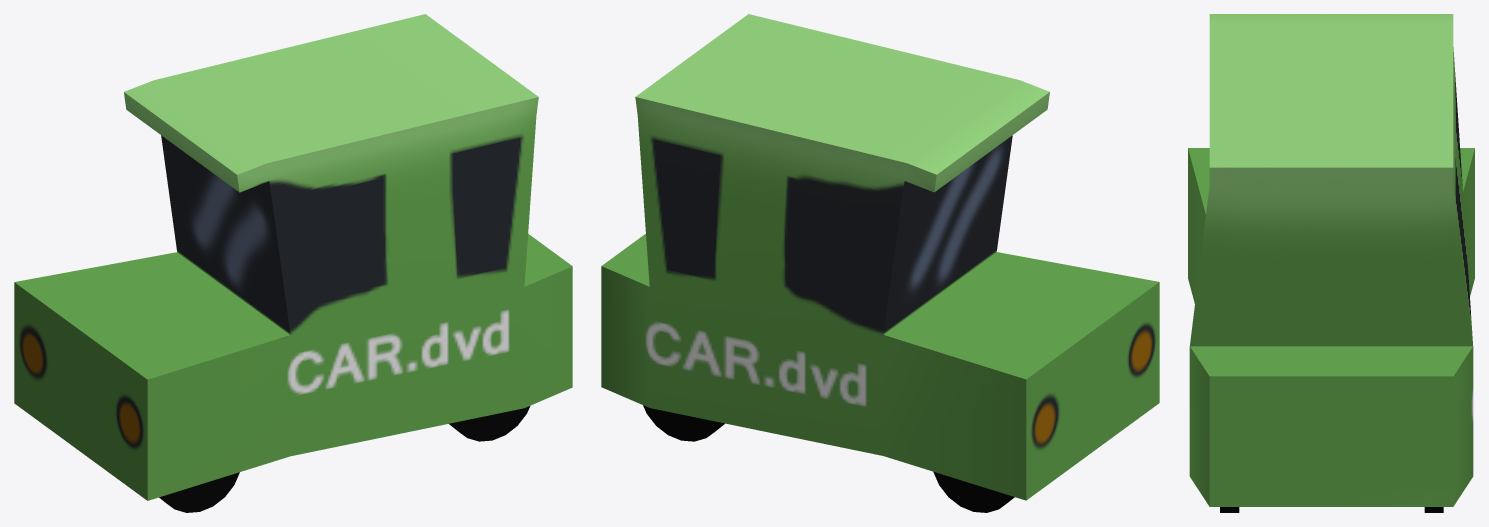
Rendered from car.fbx.
The picture shows the model from 3 angles, left to right: view 1: azimuth 30°, elevation 25°; view 2: azimuth 150°, elevation 25°; view 3: azimuth 270°, elevation 25°; orthographic projection. The views are drawn at different scales.
Parts seen in each view (by area): view 1: carRKD:pCube17, pCylinder9, pCylinder8; view 2: carRKD:pCube17, pCylinder9, pCylinder8; view 3: carRKD:pCube17.
Boxes of the visible parts, x1=… form: carRKD:pCube17: x1=14, y1=14, x2=572, y2=500; pCylinder9: x1=159, y1=472, x2=239, y2=512; pCylinder8: x1=449, y1=406, x2=529, y2=441; carRKD:pCube17: x1=601, y1=14, x2=1159, y2=500; pCylinder9: x1=933, y1=471, x2=1014, y2=512; pCylinder8: x1=643, y1=405, x2=724, y2=441; carRKD:pCube17: x1=1188, y1=14, x2=1474, y2=506.
Size of the model in its own units: 27.56 by 20.4 by 14.63.
